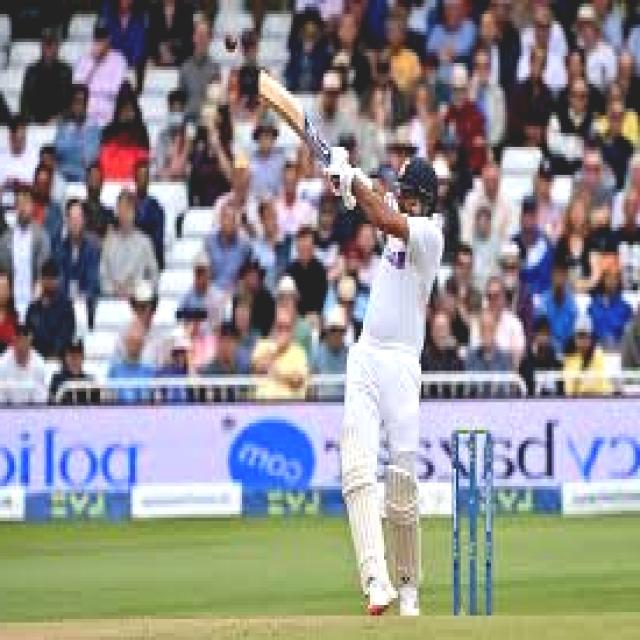toe: (256, 70, 264, 102)
